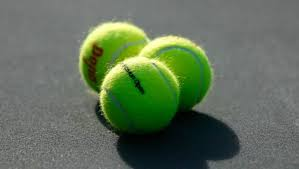tennis_ball: (98, 54, 181, 136), (136, 33, 213, 113), (79, 21, 153, 94)
